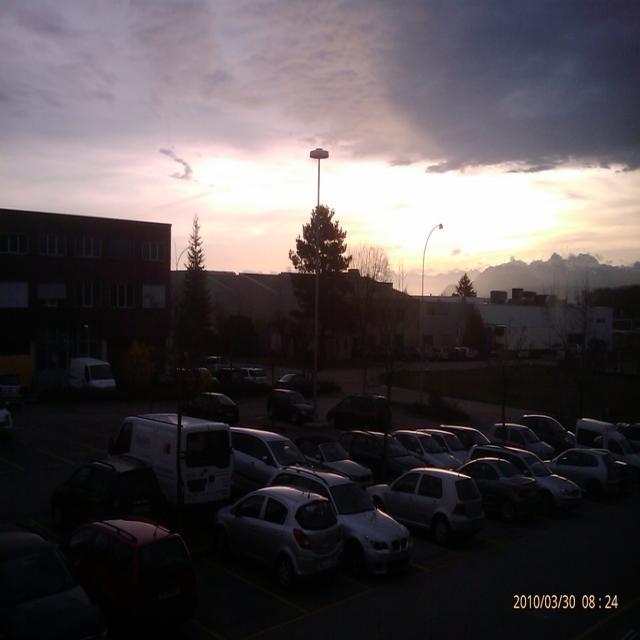other: (0, 437, 639, 639), (215, 471, 356, 599), (175, 387, 237, 424), (327, 392, 383, 425), (267, 382, 312, 423), (275, 368, 307, 393), (242, 364, 264, 388)
